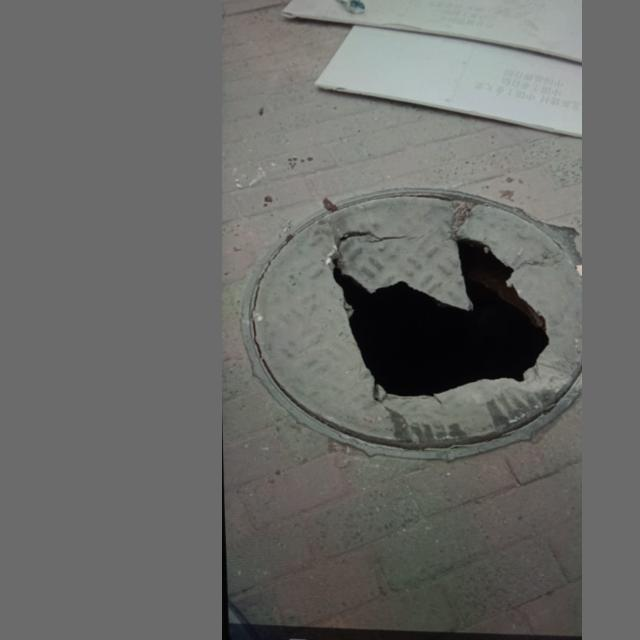broke: (241, 187, 581, 461)
